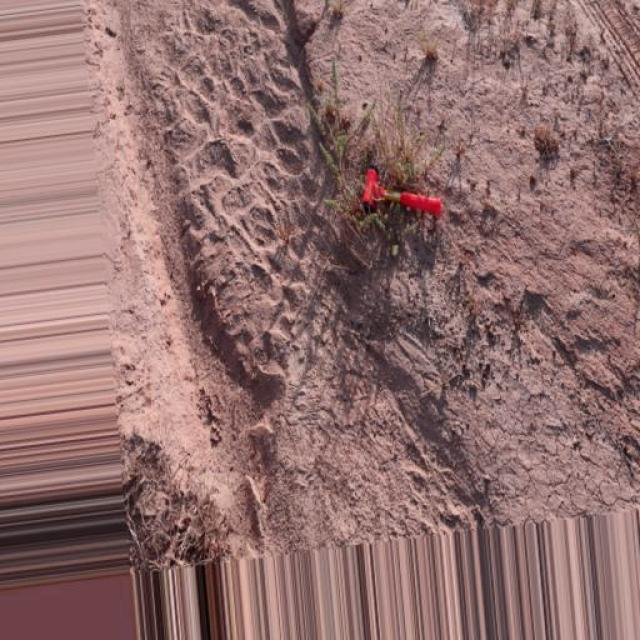mallet: (361, 166, 445, 218)
